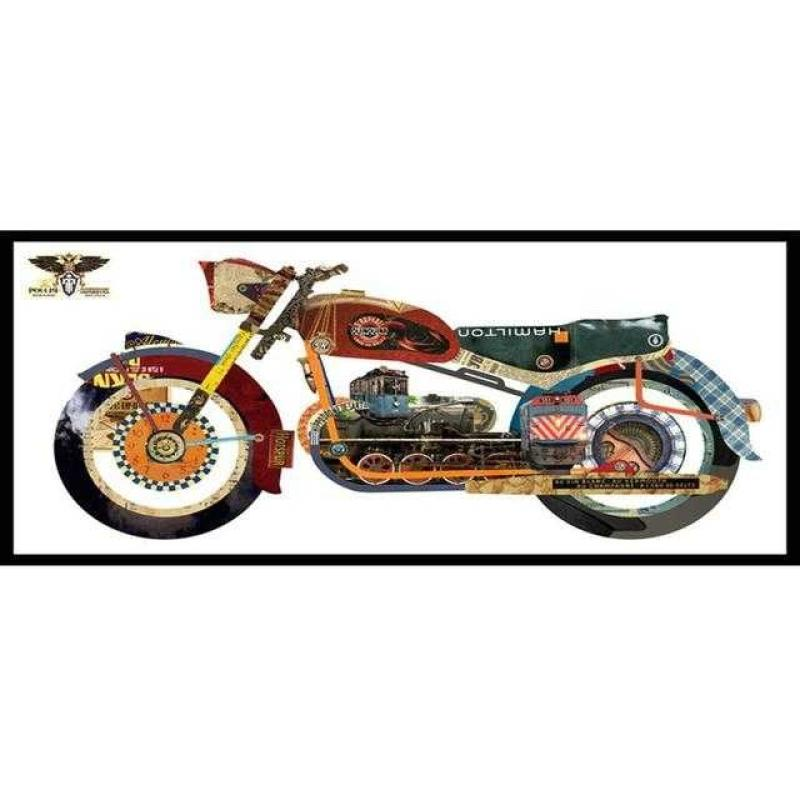bike: (61, 236, 746, 548)
